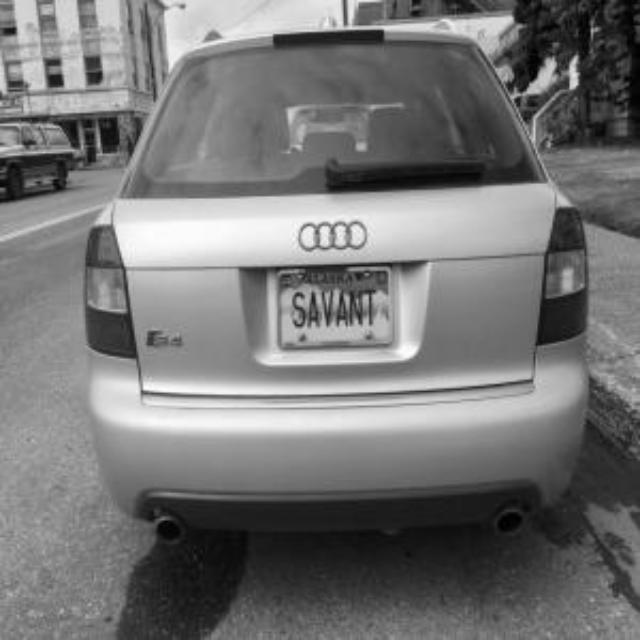License Plate: (277, 268, 393, 347)
